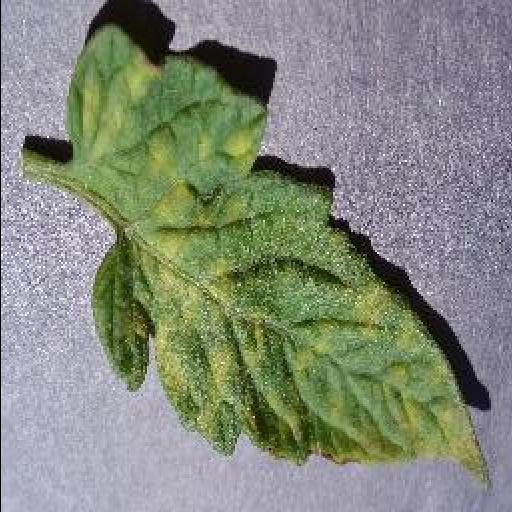disease_tomato: (64, 27, 494, 488)
